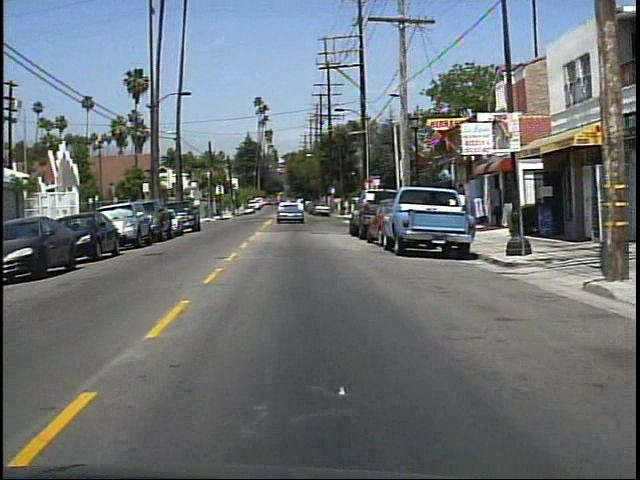person: (452, 187, 473, 232)
